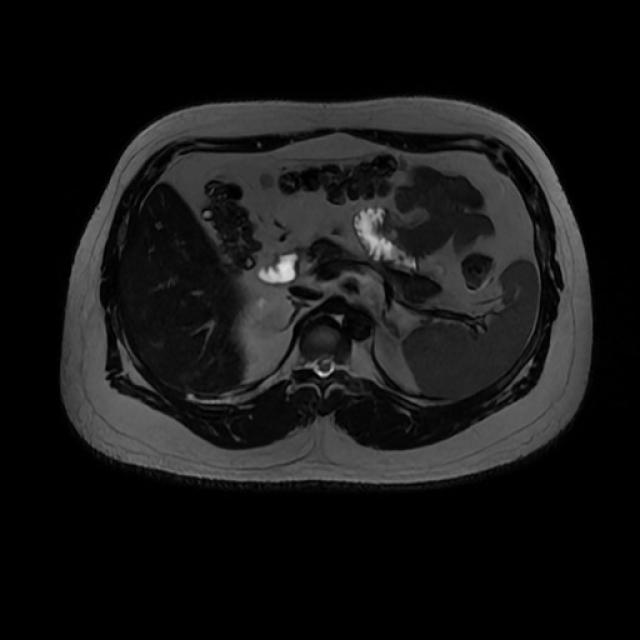sag: (253, 310, 285, 337)
